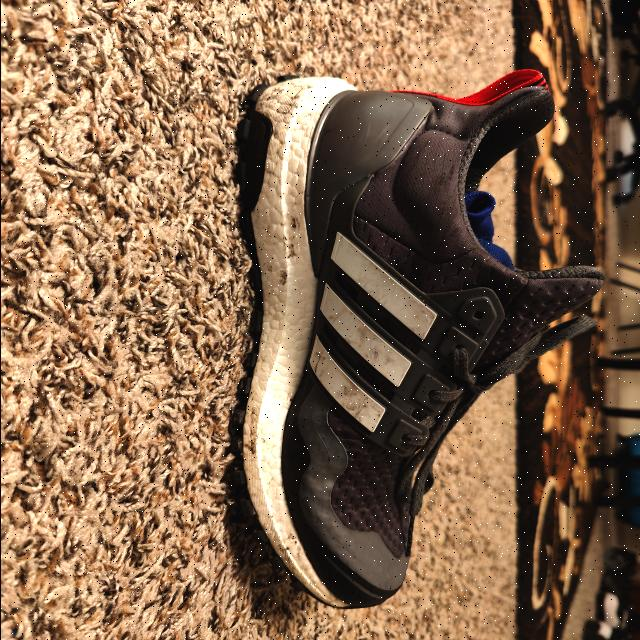black shoes: (227, 70, 600, 610)
